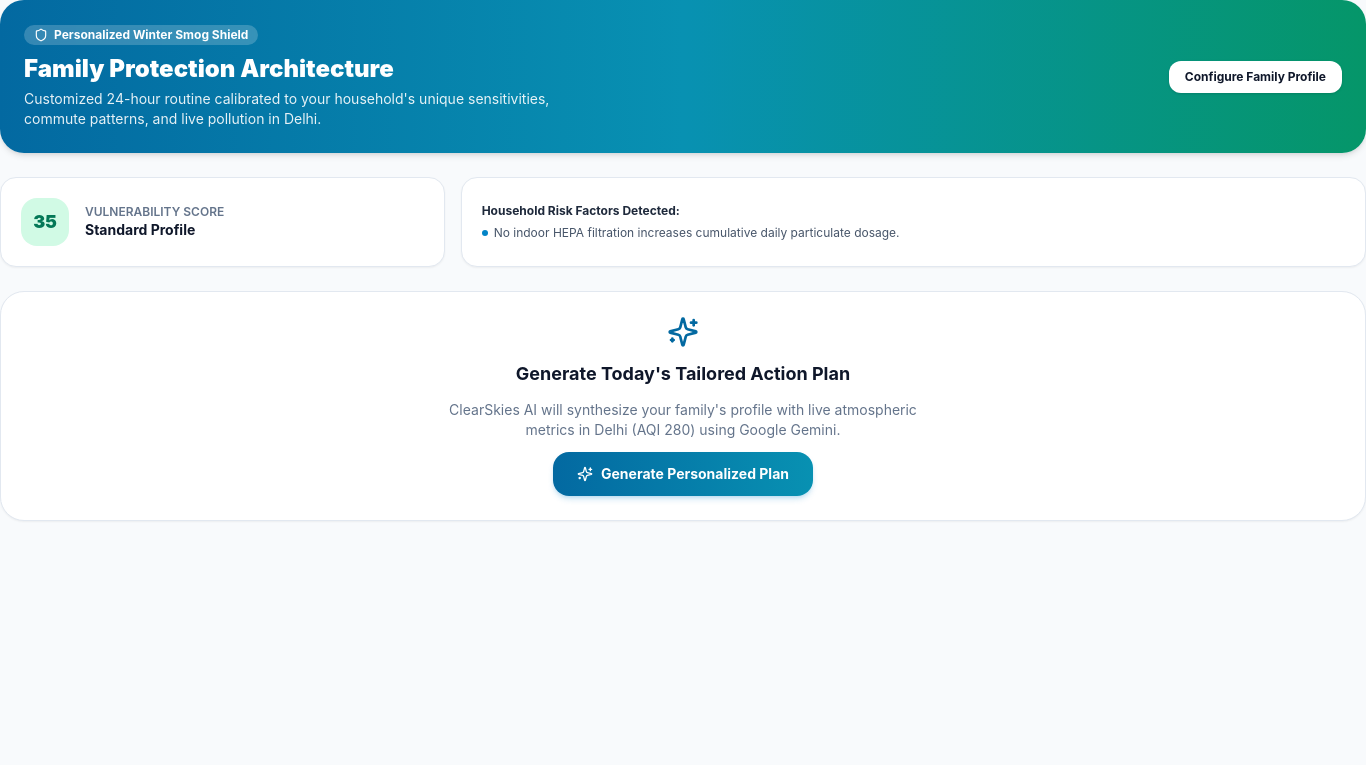
FamilyPlanView › renders a generated plan, including critical and standard phases
Click the button "Generate Personalized Plan" at [683, 474], box [553,452,813,496]
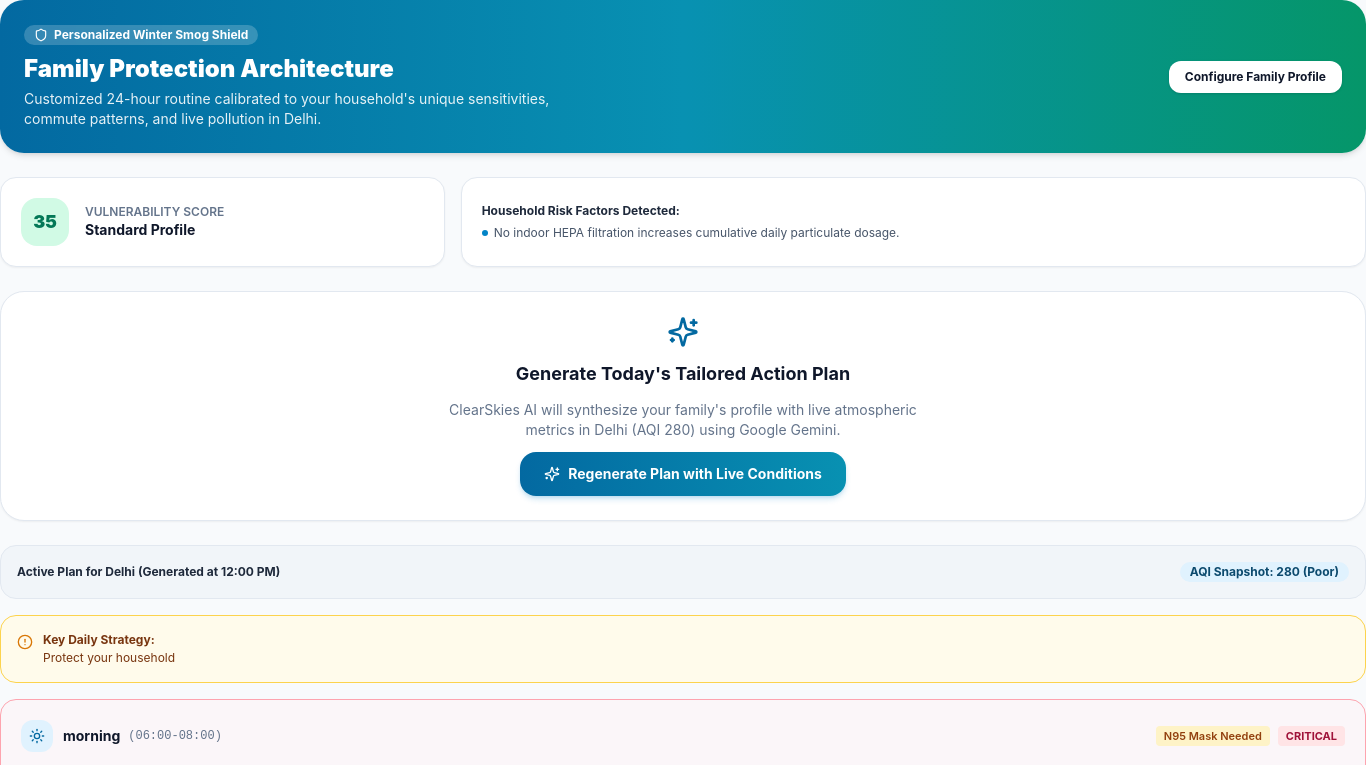
Now the text "Active Plan for Delhi (Generated at 12:00 PM)" is shown, box [17,564,280,580]
Now the text "Protect your household" is shown, box [43,650,175,665]
Now the text "CRITICAL" is shown, box [1278,726,1345,746]
